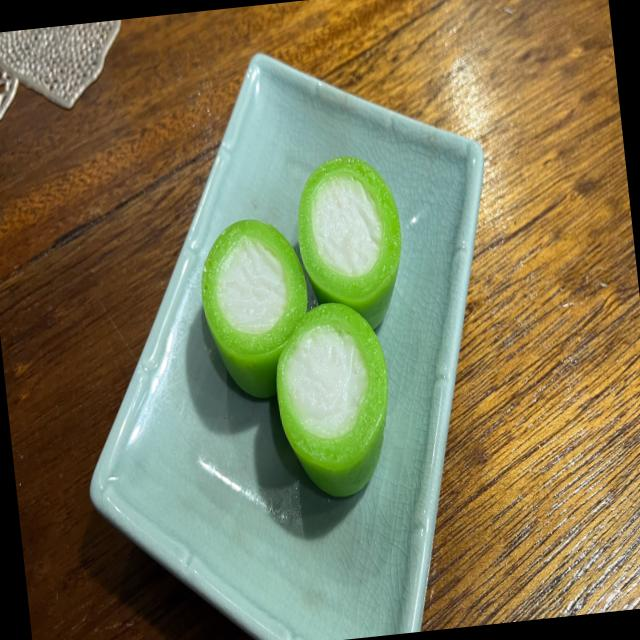nona-manis: (276, 302, 388, 497), (201, 219, 307, 398), (298, 156, 401, 328)
